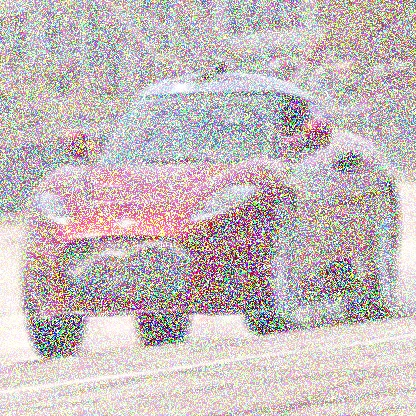Vehicle: (20, 49, 404, 362)
